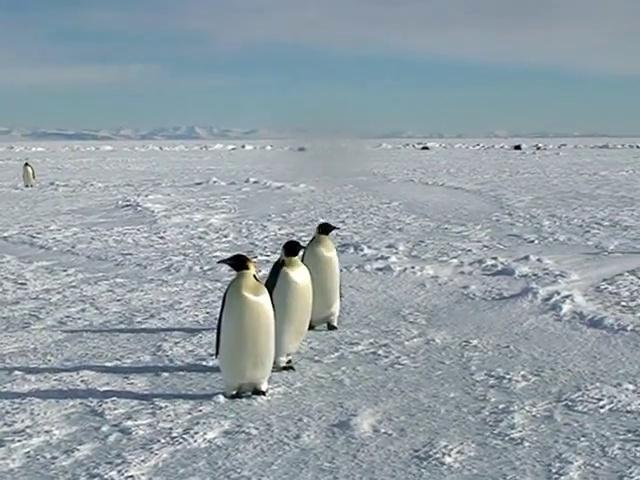animal: (304, 224, 341, 331)
